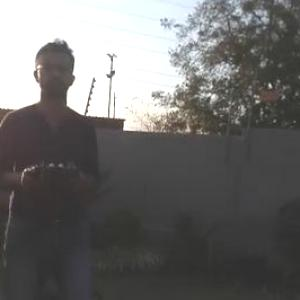follow: (0, 36, 104, 299)
